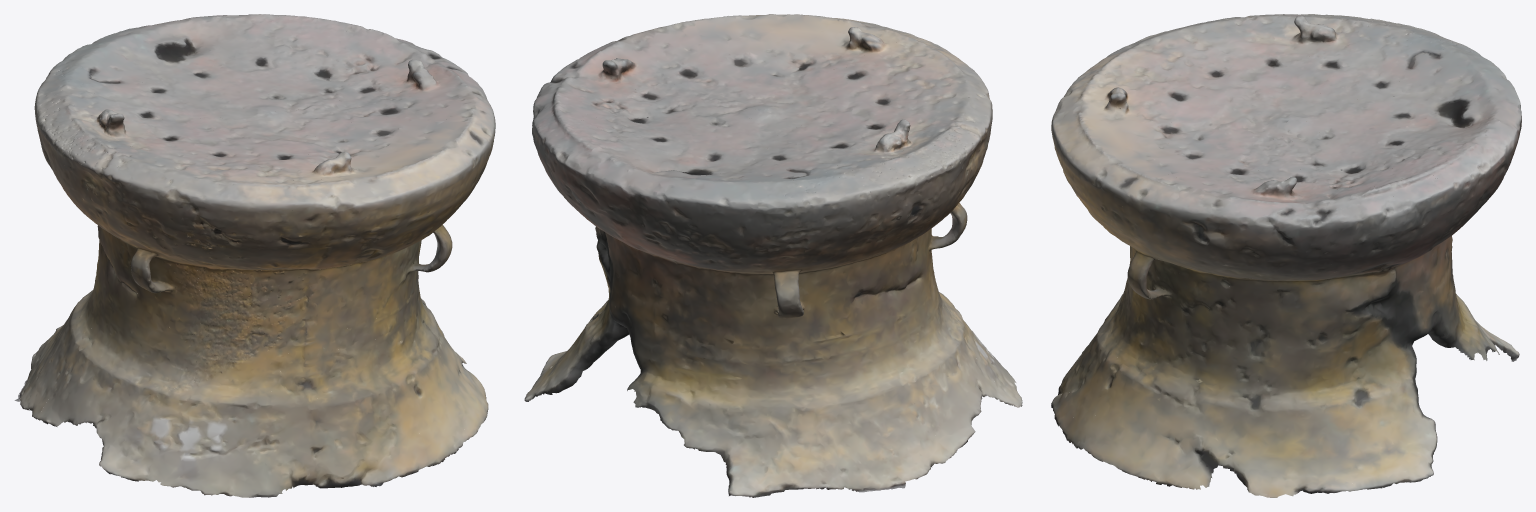
The model's file is TamChucDrum.fbx.
3 views of the same model, side by side, from view 1: azimuth 30°, elevation 25°; view 2: azimuth 150°, elevation 25°; view 3: azimuth 270°, elevation 25° (orthographic).
Visible parts, largest first — view 1: TamChucDrum; view 2: TamChucDrum; view 3: TamChucDrum.
Boxes of the visible parts, box(x1,y1,x2,y2) form: TamChucDrum: box(14, 14, 495, 497); TamChucDrum: box(524, 14, 1022, 497); TamChucDrum: box(1051, 14, 1521, 497).
Bounding box in the file's own units: 0.7 × 0.5189 × 0.689.
